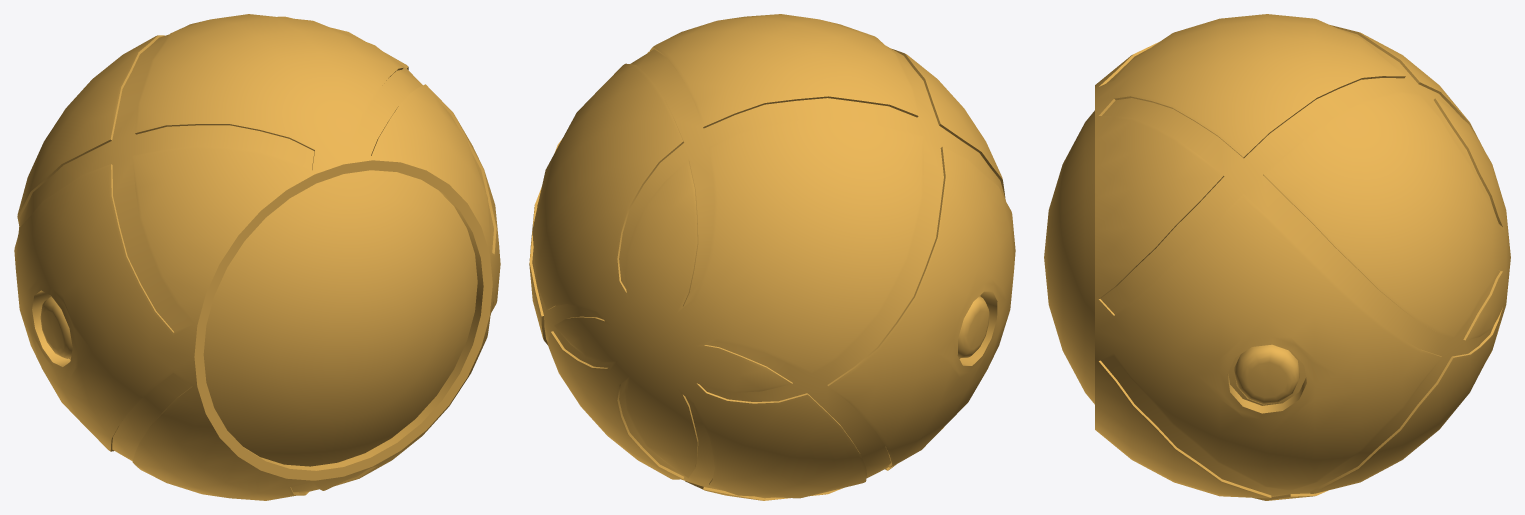
The model's file is Robot.fbx.
3 renders of one model, left to right at view 1: azimuth 30°, elevation 25°; view 2: azimuth 150°, elevation 25°; view 3: azimuth 270°, elevation 25°, orthographic.
Visible parts, largest first — view 1: Robot; view 2: Robot; view 3: Robot.
Boxes of the visible parts, box(x1,y1,x2,y2) form: Robot: box(14, 14, 500, 500); Robot: box(529, 14, 1015, 500); Robot: box(1044, 14, 1510, 500).
Bounding box in the file's own units: 33.18 × 33.48 × 32.07.
